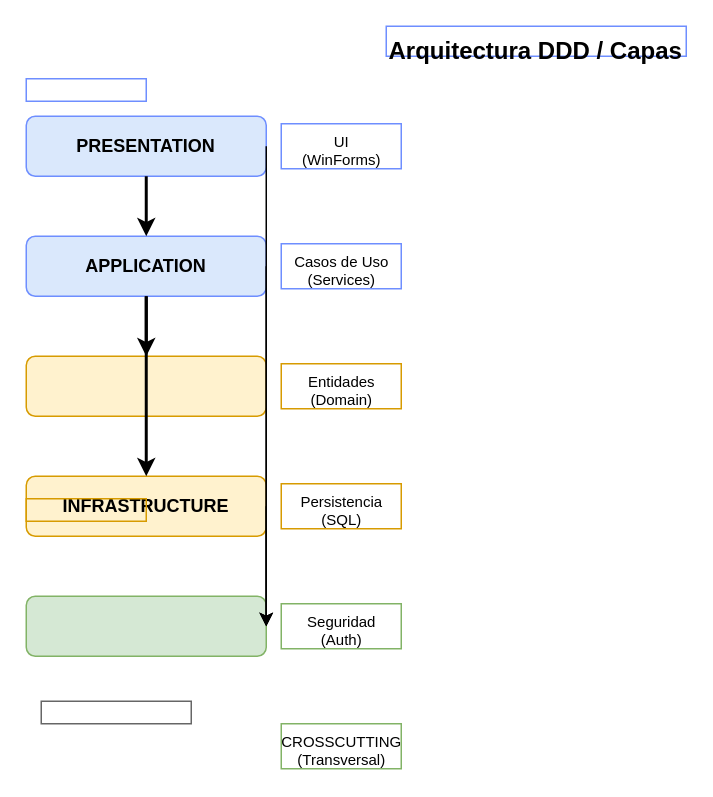
Some shapes in this 713 by 797 pixel diagram are drawn without their labels. The box of each missing label's shape, as (x1, y1, x2, y2) in pixels:
CROSSCUTTING: (25, 595, 266, 656)
DEPENDENCIAS: (40, 700, 191, 724)
DOMAIN: (25, 355, 266, 416)
ENTRY POINT: (25, 77, 146, 101)
EXIT POINT: (25, 497, 146, 521)
